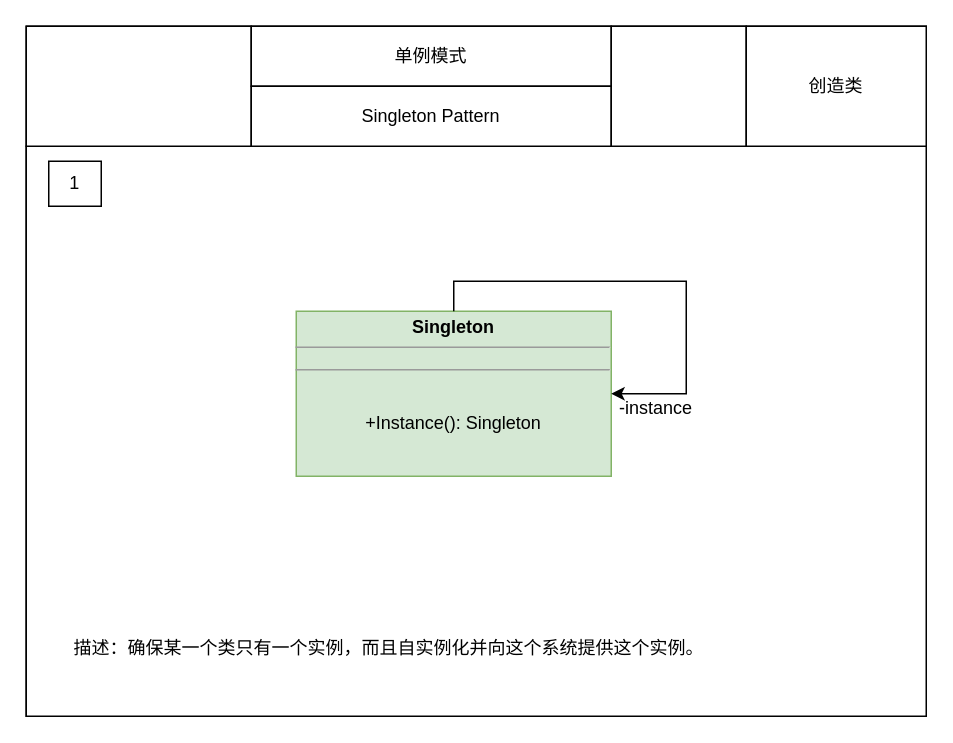
Some shapes in this 953 by 743 pixel diagram are drawn without their labels. Each missing label, with the centre of its shape:
模式名称: point 138,85
类型: point 678,85
